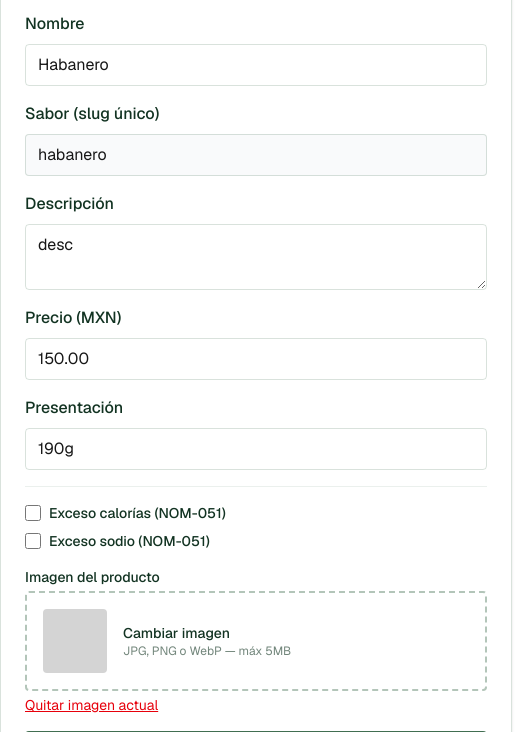
Test case: ProductForm — quitar imagen actual › falla → error con el motivo
Click the button "Quitar imagen actual". click: (92, 705)
box: [25,695,158,715]
(page scrolled)
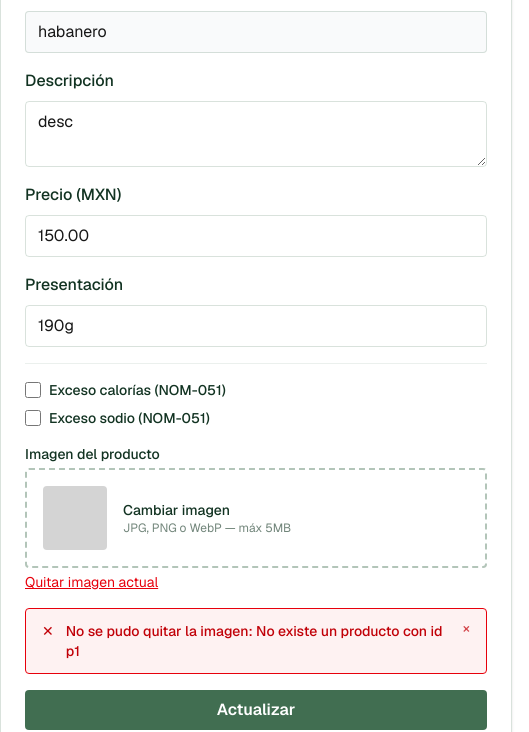
Result: the message shows "No se pudo quitar la imagen: No existe un producto con id p1" at [66,622,442,660]
